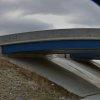Bridge: (5, 19, 94, 65)
